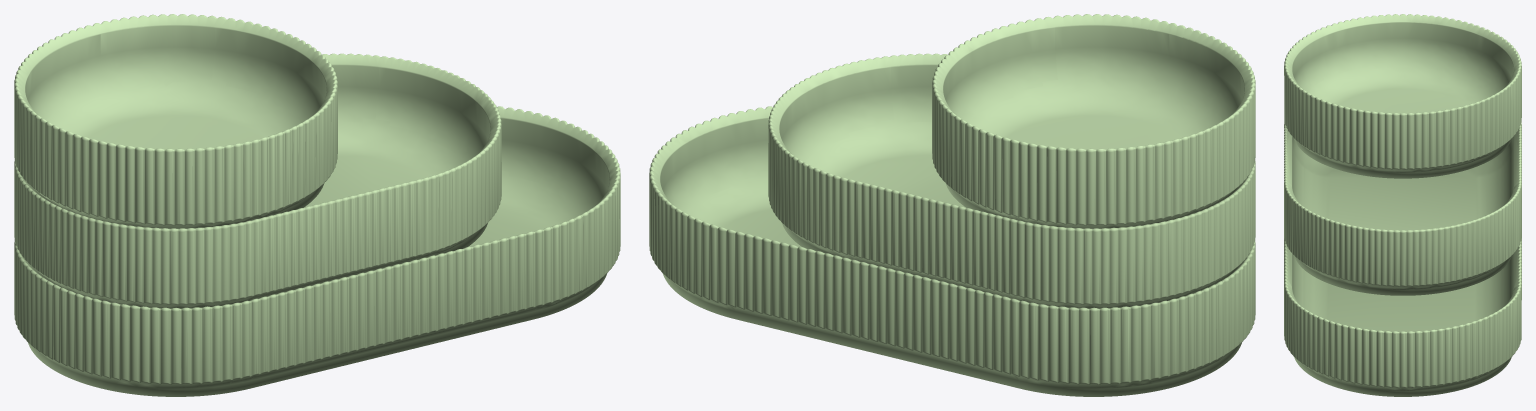
File: kademeli-set.glb
The picture shows the model from 3 angles, left to right: view 1: azimuth 30°, elevation 25°; view 2: azimuth 150°, elevation 25°; view 3: azimuth 270°, elevation 25°; orthographic projection. The views are drawn at different scales.
Parts seen in each view (by area): view 1: Buyuk, Kucuk, Orta; view 2: Buyuk, Kucuk, Orta; view 3: Kucuk, Orta, Buyuk.
Part boxes in pixels (x1,y1,x2,y2): Buyuk: (14, 106, 620, 396); Kucuk: (14, 14, 337, 228); Orta: (14, 53, 501, 308); Buyuk: (649, 106, 1255, 396); Kucuk: (932, 14, 1255, 228); Orta: (768, 53, 1255, 308); Kucuk: (1284, 14, 1521, 178); Orta: (1284, 122, 1521, 295); Buyuk: (1284, 185, 1521, 396).
Bounding box in the file's own units: 0.189 × 0.0809 × 0.094.
